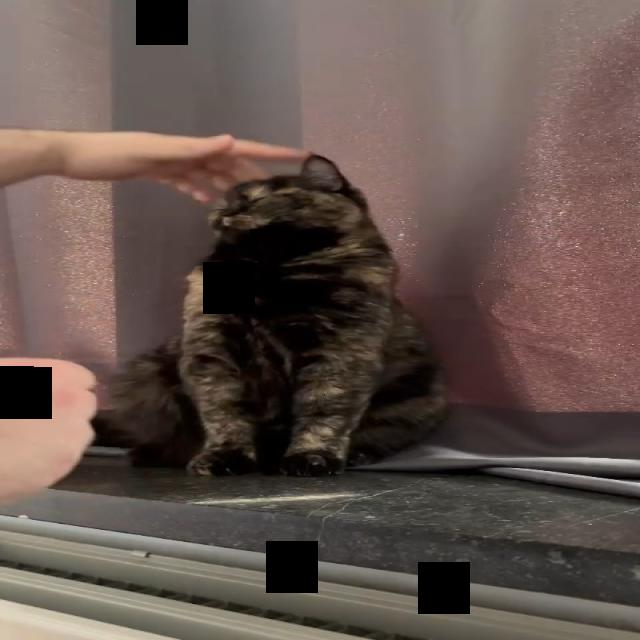authorized: (91, 152, 449, 477)
